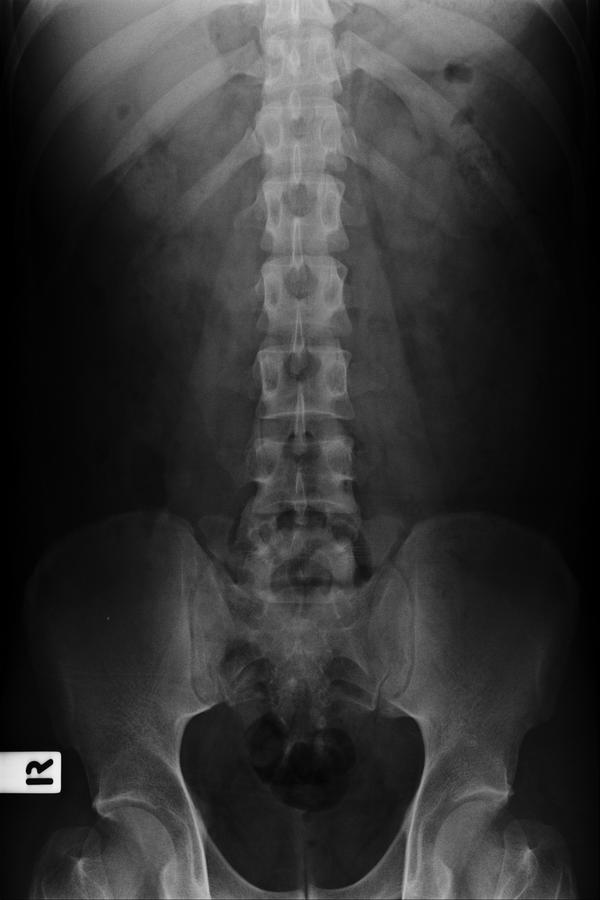lumbar scoliosis: (231, 6, 358, 626)
